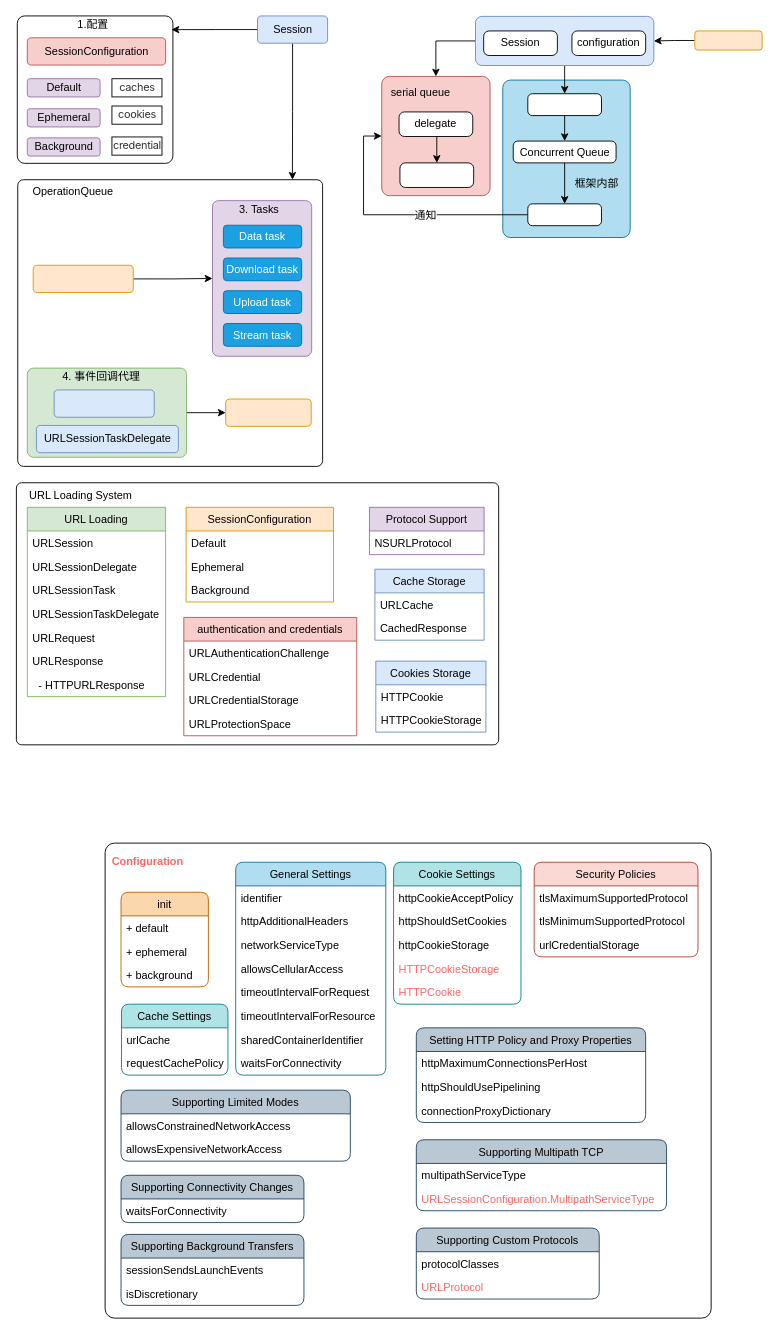
This 778x1334 diagram has some shape labels left out. The shapes that lost their labels are listed below. From the top down, each one's centre as x and y in pixels, then its label:
At point 728,40: "Requests".
At point 564,104: "Tasks".
At point 436,174: "Response".
At point 564,214: "thread".
At point 82,278: "2. Requests".
At point 103,403: "SessionDelegate".
At point 268,412: "5. Response".
